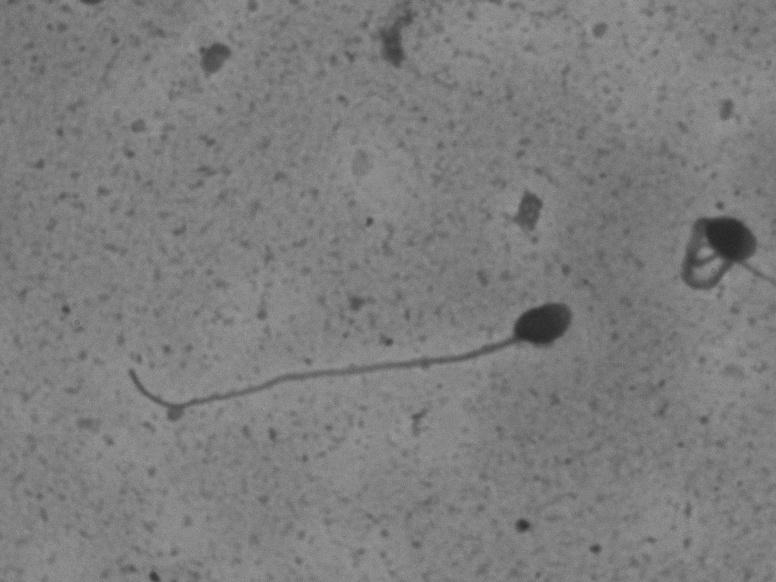Abnormal: (74, 259, 607, 464)
